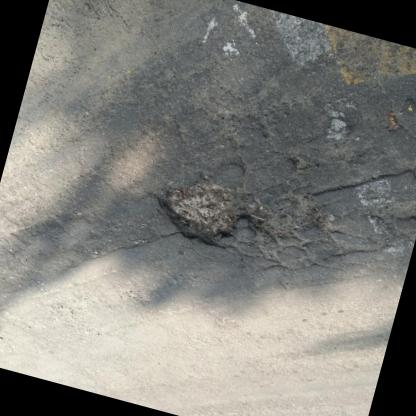pothole: (141, 166, 252, 256), (243, 184, 330, 252)
